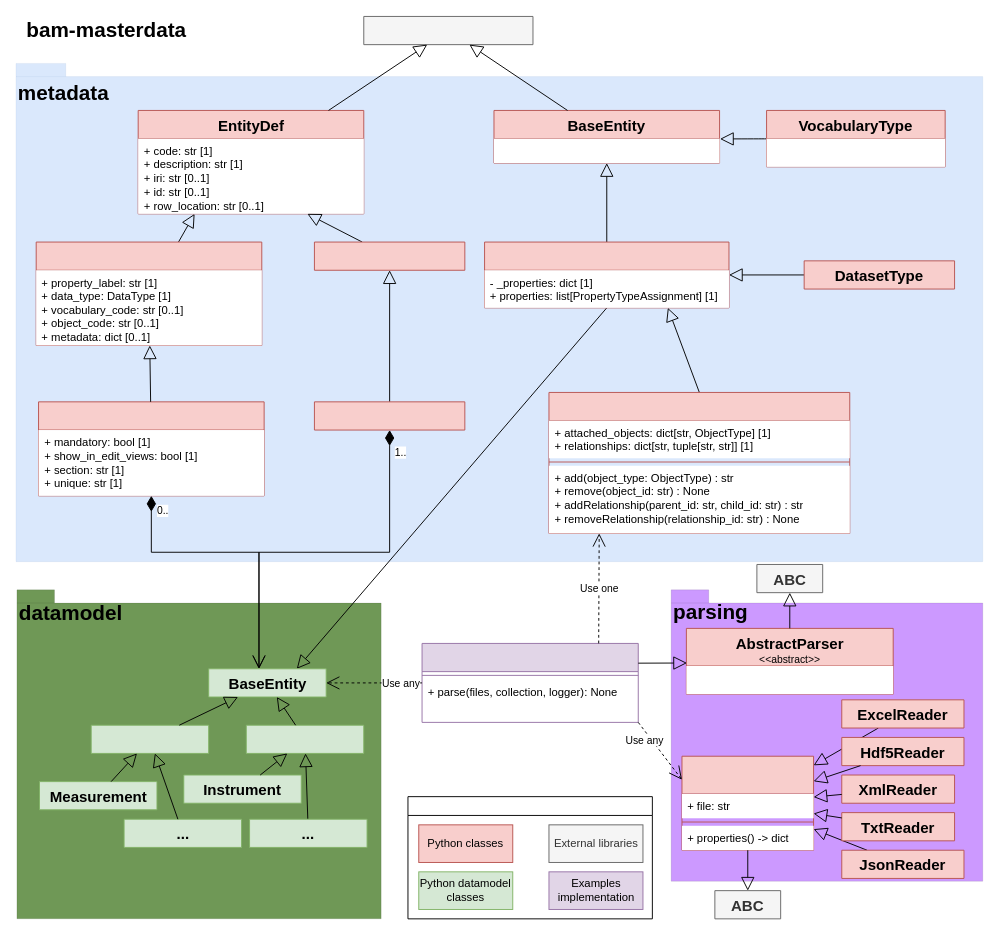
Image size: 999x935. Some labels were removed from this diagram. Each missing label, with the box of its shape:
+ parse(files, collection, logger) : None: (686, 666, 893, 694)
+ terms: list[VocabularyTerm] [1]: (766, 138, 945, 166)
- _property_metadata: dict [1]: (494, 138, 719, 163)
AbstractReader <<abstract>>: (681, 755, 814, 850)
Activity: (90, 724, 209, 753)
BaseObjectTypeDef: (313, 241, 465, 270)
CollectionType: (548, 392, 850, 533)
Entity: (245, 724, 364, 753)
legend: (407, 796, 652, 919)
MasterdataExampleParser: (421, 642, 638, 722)
ObjectType: (484, 241, 729, 308)
ObjectTypeDef: (313, 401, 465, 430)
PropertyTypeAssignment: (38, 401, 264, 496)
PropertyTypeDef: (35, 241, 262, 345)
pydantic.BaseModel: (363, 16, 533, 45)
